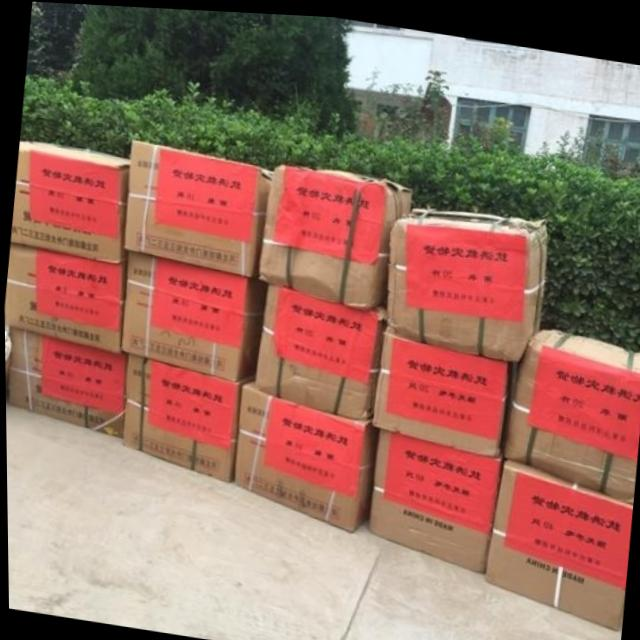box: (385, 200, 547, 357), (484, 452, 631, 625), (500, 322, 640, 496), (257, 161, 411, 305), (231, 376, 376, 528), (121, 138, 272, 276), (370, 319, 513, 454), (366, 424, 498, 568), (120, 249, 265, 379), (252, 281, 387, 417), (120, 351, 241, 480), (9, 139, 129, 262), (4, 242, 126, 352), (7, 326, 125, 437)
